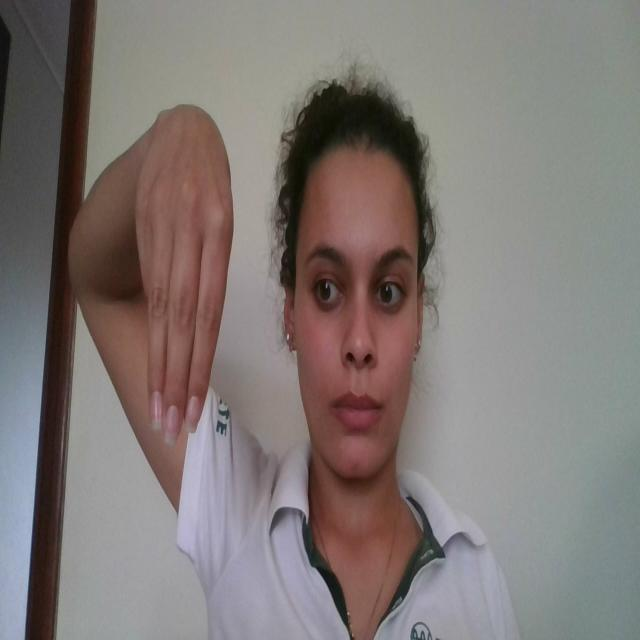M: (138, 98, 236, 450)
